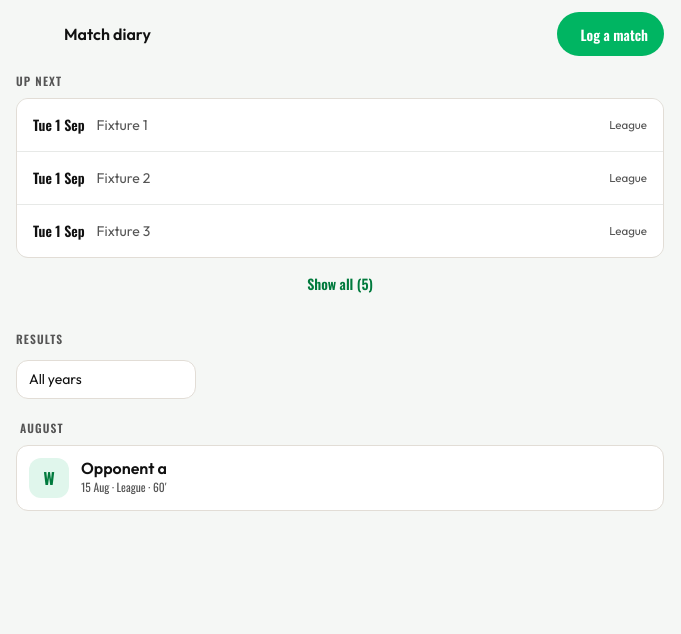
Test: up next › shows three, then all of them behind 'Show all (N)'
Expected: the text "Fixture 3" is shown, [97,222,150,240]
Expected: the text "Fixture 4" is not shown
Click the button "Show all (5)". click: (340, 284)
box: [16,262,664,306]
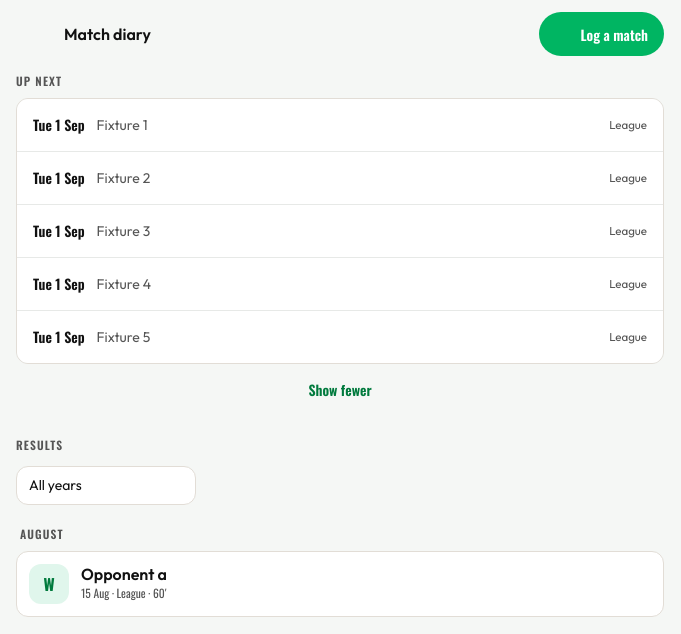
Expected: the text "Fixture 4" is shown, [97,275,151,293]
Expected: the text "Fixture 5" is shown, [97,328,150,346]
